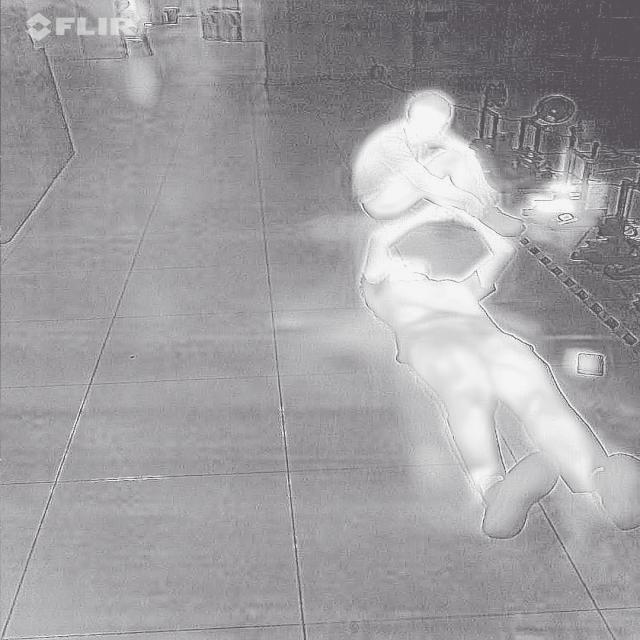Victim: (345, 191, 635, 551), (346, 76, 532, 240)
